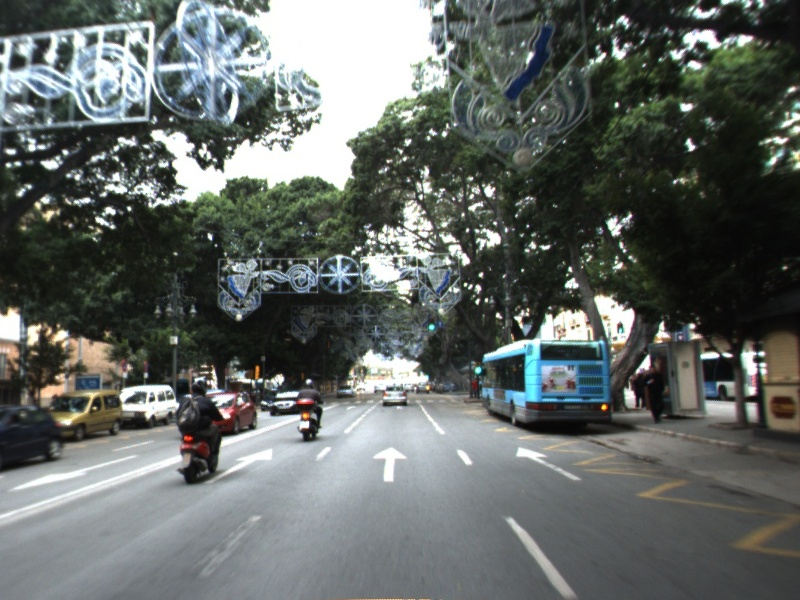STRAIGHT: (200, 446, 274, 486), (513, 444, 584, 483), (370, 445, 410, 483)
